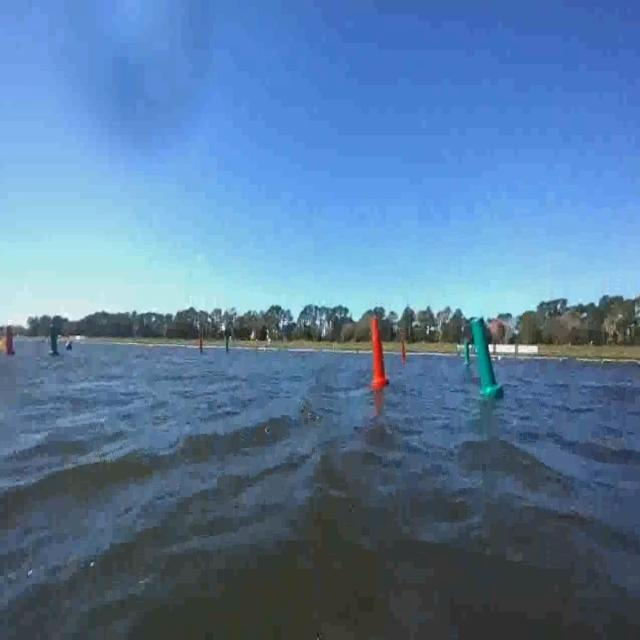black-buoy: (66, 341, 74, 353)
green-column-buoy: (473, 316, 505, 398), (46, 322, 61, 358), (464, 341, 471, 366), (224, 335, 230, 354)
red-column-buoy: (370, 316, 390, 388), (399, 341, 406, 363), (200, 336, 206, 356)
